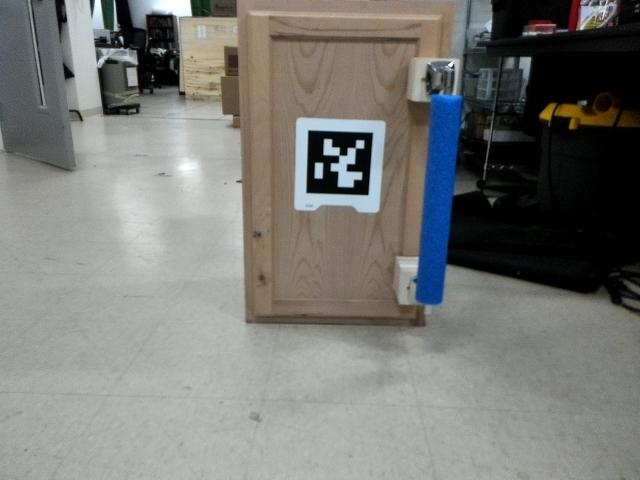noodle_handle: (407, 77, 470, 313)
